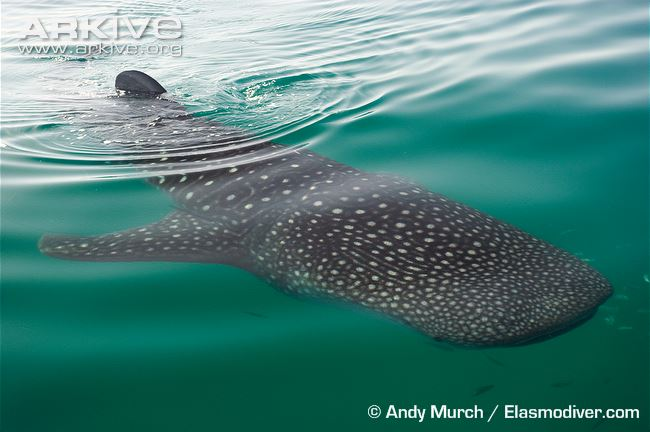Rhincodon_typusw: (43, 64, 622, 358)
